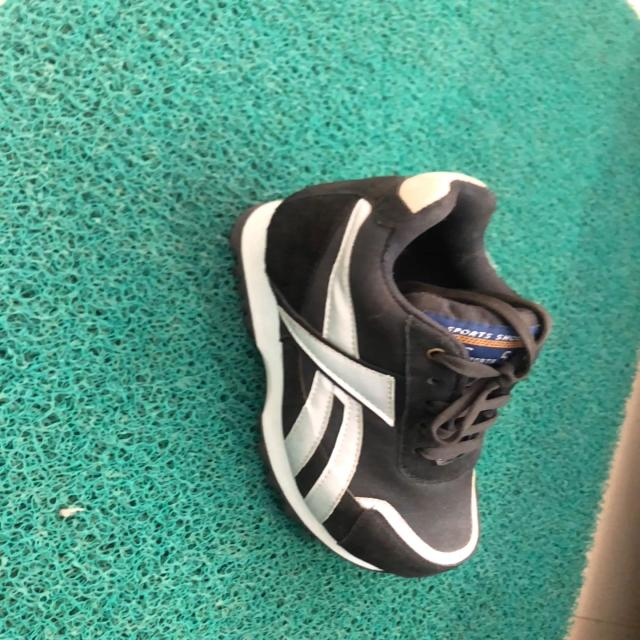shoe: (229, 172, 552, 580)
